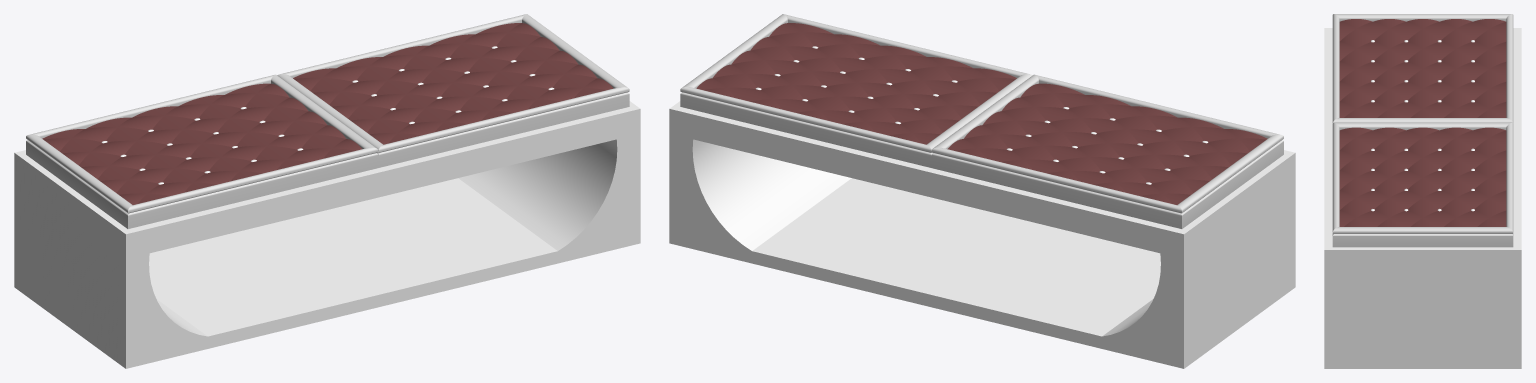
The picture shows the model from 3 angles, left to right: view 1: azimuth 30°, elevation 25°; view 2: azimuth 150°, elevation 25°; view 3: azimuth 270°, elevation 25°; orthographic projection. The views are drawn at different scales.
Visible parts, largest first — view 1: Layer0_001, Group_011, Group_005, Group_001, Group_007; view 2: Layer0_001, Group_011, Group_005, Group_001, Group_007; view 3: Layer0_001, Group_011, Group_005, Group_007, Group_001.
Boxes of the visible parts, x1,y1,x2,y2 form: Layer0_001: [14, 101, 640, 368]; Group_011: [293, 23, 613, 144]; Group_005: [42, 83, 362, 204]; Group_001: [26, 74, 378, 228]; Group_007: [277, 14, 629, 167]; Layer0_001: [669, 101, 1295, 368]; Group_011: [696, 23, 1016, 144]; Group_005: [947, 83, 1267, 204]; Group_001: [931, 74, 1283, 228]; Group_007: [680, 14, 1032, 167]; Layer0_001: [1324, 28, 1521, 368]; Group_011: [1339, 127, 1506, 226]; Group_005: [1339, 19, 1506, 117]; Group_007: [1332, 122, 1513, 247]; Group_001: [1332, 14, 1513, 123].
Size of the model in its own units: 62.99 by 18.13 by 23.62.
